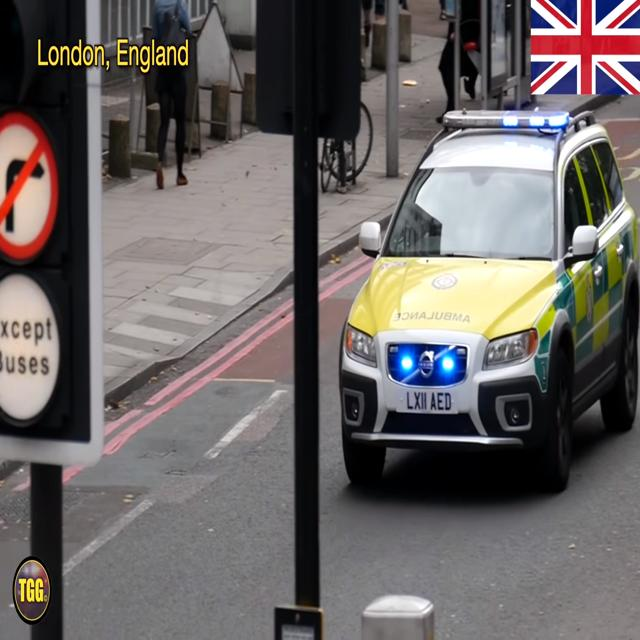emergency-vehicles: (331, 96, 640, 528)
